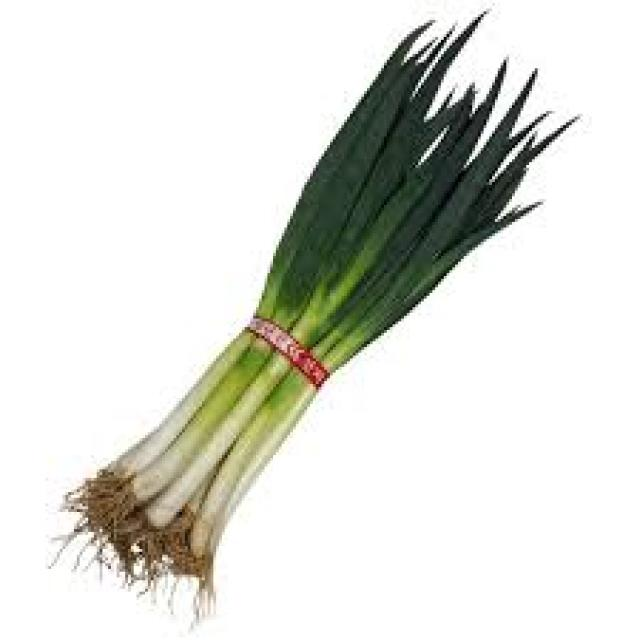spring_onion: (40, 0, 586, 623)
